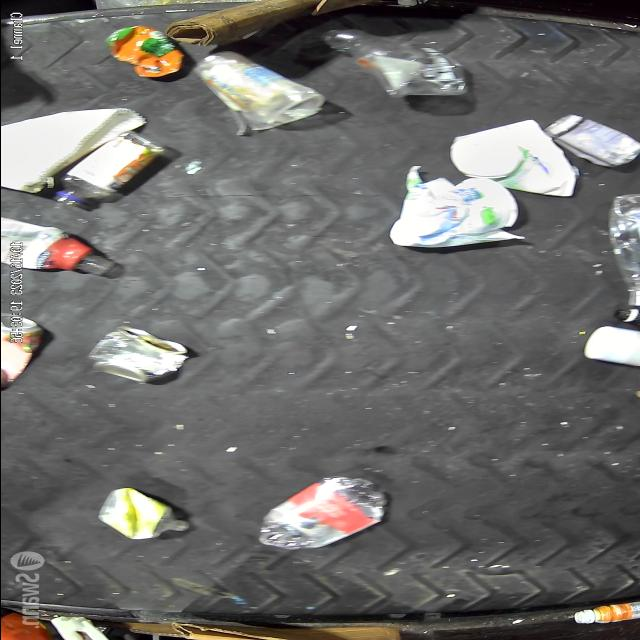can: (86, 326, 190, 384), (542, 114, 640, 167), (106, 25, 184, 79), (0, 310, 48, 390)
milk_jug: (447, 118, 577, 198)
plastic_bottle: (321, 28, 467, 98), (255, 477, 386, 549), (54, 130, 165, 207)
